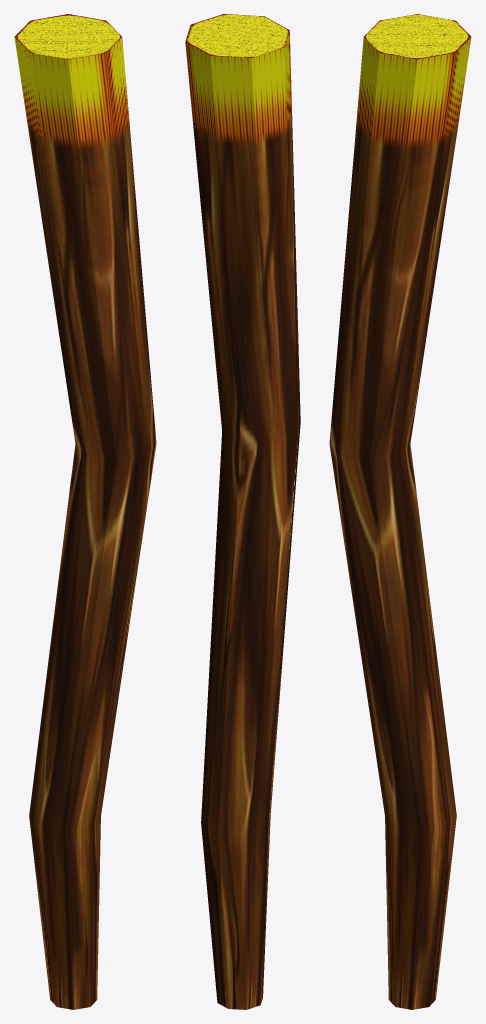
Rendered from Torch.fbx.
3 views of the same model, side by side, from view 1: azimuth 90°, elevation 25°; view 2: azimuth 150°, elevation 25°; view 3: azimuth 270°, elevation 25° (orthographic).
Visible parts, largest first — view 1: Torch_; view 2: Torch_; view 3: Torch_.
Boxes of the visible parts, <box> form: Torch_: <box>14,14,156,1009</box>; Torch_: <box>185,14,300,1009</box>; Torch_: <box>329,14,471,1009</box>.
Size of the model in its own units: 0.8307 by 8.19 by 1.09.
1 material, 1 textured.
